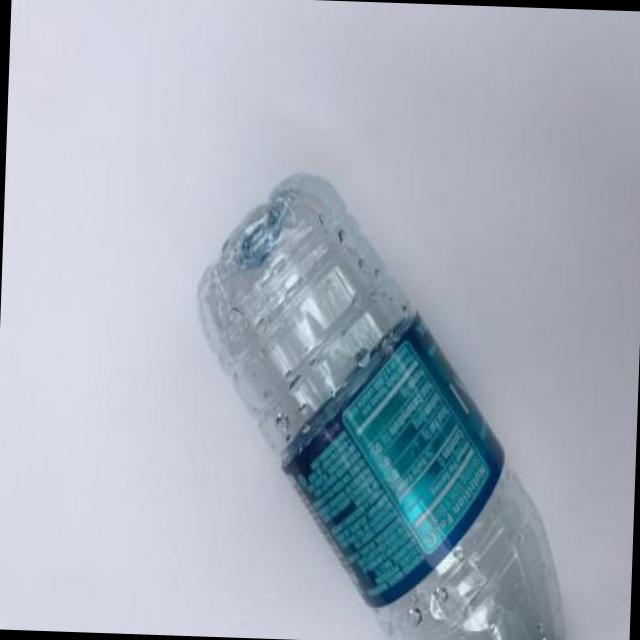BotolPlastik: (183, 166, 589, 640)
